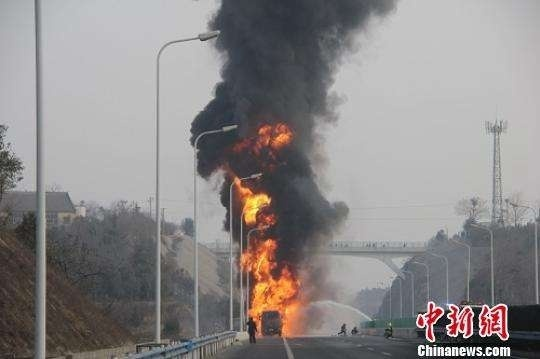fire: (235, 170, 311, 331), (247, 119, 292, 154)
